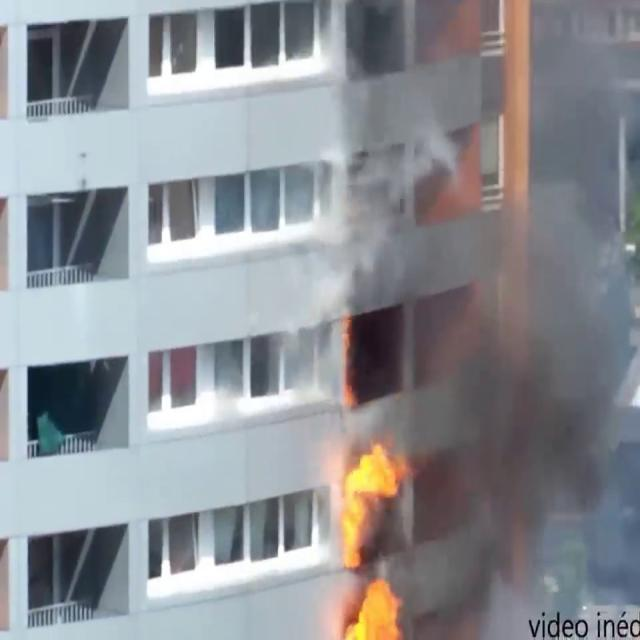Fire: (324, 426, 412, 640)
Smoke: (398, 8, 640, 633)
